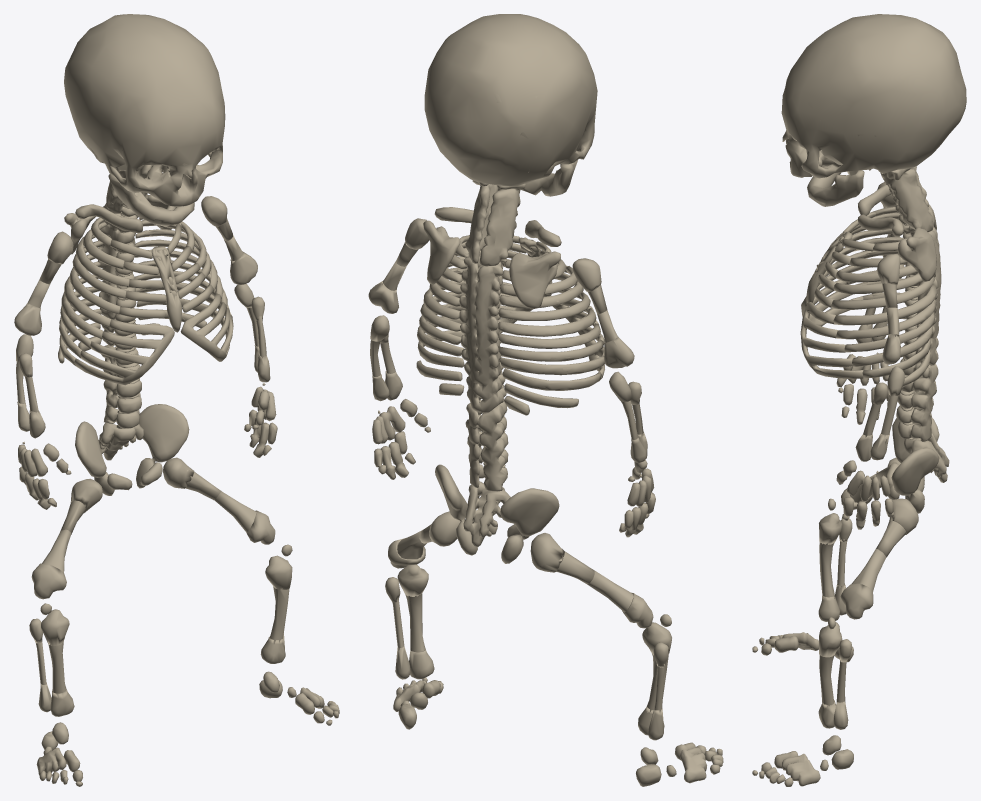
The model's file is pediatric_neonate_male.skeletal.LOD2.glb.
3 renders of one model, left to right at view 1: azimuth 30°, elevation 25°; view 2: azimuth 150°, elevation 25°; view 3: azimuth 270°, elevation 25°, orthographic. The views are drawn at different scales.
Visible parts, largest first — view 1: PEDIATRIC.NEONATE.MALE.SKELETAL.CARTILAGE_TRUNK, PEDIATRIC.NEONATE.MALE.SKELETAL.CARTILAGE_HEAD, PEDIATRIC.NEONATE.MALE.SKELETAL.CARTILAGE_LEGS, PEDIATRIC.NEONATE.MALE.SKELETAL.CARTILAGE_ARMS, PEDIATRIC.NEONATE.MALE.SKELETAL.RIBS_CORTICAL, PEDIATRIC.NEONATE.MALE.SKELETAL.FEMORA_LOWER_CORTICAL, PEDIATRIC.NEONATE.MALE.SKELETAL.TIBIAE_CORTICAL, PEDIATRIC.NEONATE.MALE.SKELETAL.FEMORA_UPPER_CORTICAL, PEDIATRIC.NEONATE.MALE.SKELETAL.HUMERI_LOWER_CORTICAL, PEDIATRIC.NEONATE.MALE.SKELETAL.RADII_CORTICAL; view 2: PEDIATRIC.NEONATE.MALE.SKELETAL.CARTILAGE_TRUNK, PEDIATRIC.NEONATE.MALE.SKELETAL.CARTILAGE_HEAD, PEDIATRIC.NEONATE.MALE.SKELETAL.CARTILAGE_LEGS, PEDIATRIC.NEONATE.MALE.SKELETAL.CARTILAGE_ARMS, PEDIATRIC.NEONATE.MALE.SKELETAL.RIBS_CORTICAL, PEDIATRIC.NEONATE.MALE.SKELETAL.FEMORA_LOWER_CORTICAL, PEDIATRIC.NEONATE.MALE.SKELETAL.TIBIAE_CORTICAL, PEDIATRIC.NEONATE.MALE.SKELETAL.FEMORA_UPPER_CORTICAL, PEDIATRIC.NEONATE.MALE.SKELETAL.HUMERI_LOWER_CORTICAL, PEDIATRIC.NEONATE.MALE.SKELETAL.FIBULAE_CORTICAL, PEDIATRIC.NEONATE.MALE.SKELETAL.ULNAE_CORTICAL, PEDIATRIC.NEONATE.MALE.SKELETAL.HUMERI_UPPER_CORTICAL; view 3: PEDIATRIC.NEONATE.MALE.SKELETAL.CARTILAGE_HEAD, PEDIATRIC.NEONATE.MALE.SKELETAL.CARTILAGE_TRUNK, PEDIATRIC.NEONATE.MALE.SKELETAL.CARTILAGE_LEGS, PEDIATRIC.NEONATE.MALE.SKELETAL.CARTILAGE_ARMS, PEDIATRIC.NEONATE.MALE.SKELETAL.TIBIAE_CORTICAL, PEDIATRIC.NEONATE.MALE.SKELETAL.RIBS_CORTICAL, PEDIATRIC.NEONATE.MALE.SKELETAL.FEMORA_LOWER_CORTICAL, PEDIATRIC.NEONATE.MALE.SKELETAL.FIBULAE_CORTICAL, PEDIATRIC.NEONATE.MALE.SKELETAL.FEMORA_UPPER_CORTICAL, PEDIATRIC.NEONATE.MALE.SKELETAL.RADII_CORTICAL, PEDIATRIC.NEONATE.MALE.SKELETAL.ULNAE_CORTICAL.
Part boxes in pixels (bbox=[...]): PEDIATRIC.NEONATE.MALE.SKELETAL.CARTILAGE_TRUNK: bbox=[58, 170, 233, 495]; PEDIATRIC.NEONATE.MALE.SKELETAL.CARTILAGE_HEAD: bbox=[64, 14, 225, 226]; PEDIATRIC.NEONATE.MALE.SKELETAL.CARTILAGE_LEGS: bbox=[29, 457, 339, 786]; PEDIATRIC.NEONATE.MALE.SKELETAL.CARTILAGE_ARMS: bbox=[14, 196, 277, 509]; PEDIATRIC.NEONATE.MALE.SKELETAL.RIBS_CORTICAL: bbox=[58, 206, 224, 364]; PEDIATRIC.NEONATE.MALE.SKELETAL.FEMORA_LOWER_CORTICAL: bbox=[42, 491, 256, 572]; PEDIATRIC.NEONATE.MALE.SKELETAL.TIBIAE_CORTICAL: bbox=[48, 587, 289, 694]; PEDIATRIC.NEONATE.MALE.SKELETAL.FEMORA_UPPER_CORTICAL: bbox=[60, 470, 221, 534]; PEDIATRIC.NEONATE.MALE.SKELETAL.HUMERI_LOWER_CORTICAL: bbox=[27, 235, 242, 307]; PEDIATRIC.NEONATE.MALE.SKELETAL.RADII_CORTICAL: bbox=[25, 301, 266, 412]; PEDIATRIC.NEONATE.MALE.SKELETAL.CARTILAGE_TRUNK: bbox=[416, 180, 604, 563]; PEDIATRIC.NEONATE.MALE.SKELETAL.CARTILAGE_HEAD: bbox=[424, 14, 597, 196]; PEDIATRIC.NEONATE.MALE.SKELETAL.CARTILAGE_LEGS: bbox=[385, 511, 723, 786]; PEDIATRIC.NEONATE.MALE.SKELETAL.CARTILAGE_ARMS: bbox=[368, 218, 655, 537]; PEDIATRIC.NEONATE.MALE.SKELETAL.RIBS_CORTICAL: bbox=[417, 237, 601, 415]; PEDIATRIC.NEONATE.MALE.SKELETAL.FEMORA_LOWER_CORTICAL: bbox=[397, 530, 633, 612]; PEDIATRIC.NEONATE.MALE.SKELETAL.TIBIAE_CORTICAL: bbox=[405, 593, 668, 713]; PEDIATRIC.NEONATE.MALE.SKELETAL.FEMORA_UPPER_CORTICAL: bbox=[419, 524, 594, 584]; PEDIATRIC.NEONATE.MALE.SKELETAL.HUMERI_LOWER_CORTICAL: bbox=[383, 261, 617, 342]; PEDIATRIC.NEONATE.MALE.SKELETAL.FIBULAE_CORTICAL: bbox=[392, 600, 664, 712]; PEDIATRIC.NEONATE.MALE.SKELETAL.ULNAE_CORTICAL: bbox=[370, 340, 638, 439]; PEDIATRIC.NEONATE.MALE.SKELETAL.HUMERI_UPPER_CORTICAL: bbox=[396, 242, 607, 314]; PEDIATRIC.NEONATE.MALE.SKELETAL.CARTILAGE_HEAD: bbox=[781, 14, 966, 206]; PEDIATRIC.NEONATE.MALE.SKELETAL.CARTILAGE_TRUNK: bbox=[800, 166, 949, 513]; PEDIATRIC.NEONATE.MALE.SKELETAL.CARTILAGE_LEGS: bbox=[752, 457, 918, 786]; PEDIATRIC.NEONATE.MALE.SKELETAL.CARTILAGE_ARMS: bbox=[836, 182, 904, 529]; PEDIATRIC.NEONATE.MALE.SKELETAL.TIBIAE_CORTICAL: bbox=[819, 542, 835, 706]; PEDIATRIC.NEONATE.MALE.SKELETAL.RIBS_CORTICAL: bbox=[831, 207, 936, 380]; PEDIATRIC.NEONATE.MALE.SKELETAL.FEMORA_LOWER_CORTICAL: bbox=[850, 473, 886, 591]; PEDIATRIC.NEONATE.MALE.SKELETAL.FIBULAE_CORTICAL: bbox=[836, 539, 847, 702]; PEDIATRIC.NEONATE.MALE.SKELETAL.FEMORA_UPPER_CORTICAL: bbox=[875, 467, 905, 557]; PEDIATRIC.NEONATE.MALE.SKELETAL.RADII_CORTICAL: bbox=[863, 292, 881, 437]; PEDIATRIC.NEONATE.MALE.SKELETAL.ULNAE_CORTICAL: bbox=[881, 306, 898, 435].
Size of the model in its own units: 0.2148 by 0.477 by 0.1331.
